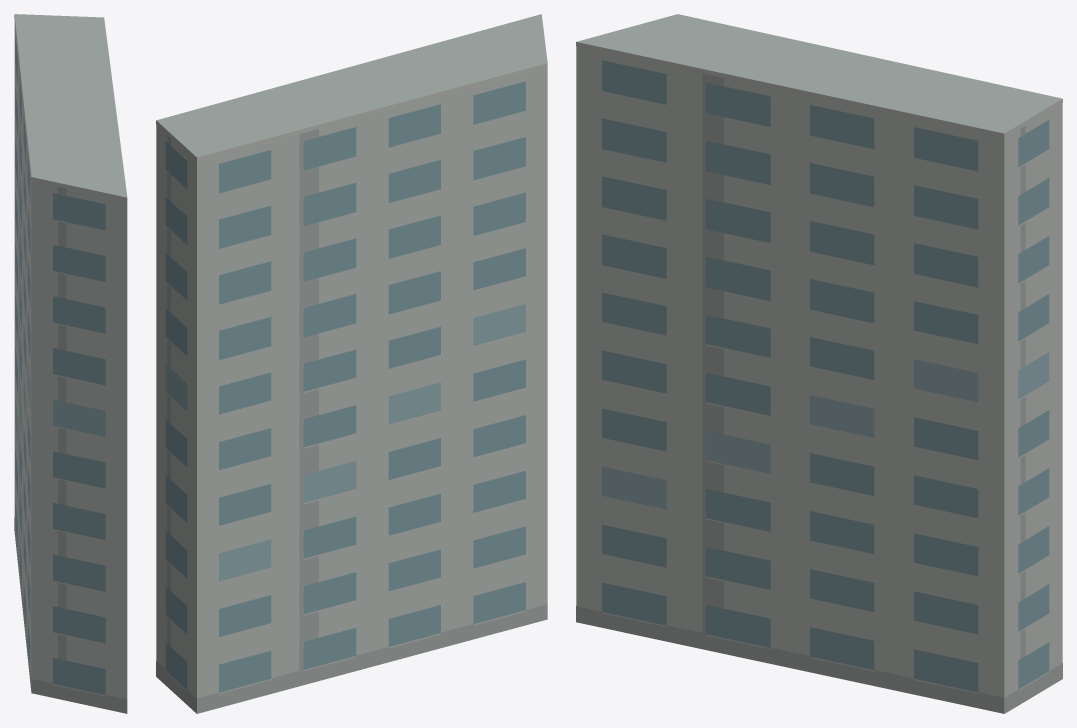
The model's file is survey-upis-33041329.glb.
The picture shows the model from 3 angles, left to right: view 1: azimuth 30°, elevation 25°; view 2: azimuth 150°, elevation 25°; view 3: azimuth 270°, elevation 25°; orthographic projection. The views are drawn at different scales.
Parts seen in each view (by area): view 1: survey-upis-33041329.tmp; view 2: survey-upis-33041329.tmp; view 3: survey-upis-33041329.tmp.
Boxes of the visible parts, x1,y1,x2,y2 form: survey-upis-33041329.tmp: (14, 14, 127, 713); survey-upis-33041329.tmp: (156, 14, 547, 713); survey-upis-33041329.tmp: (576, 14, 1062, 713).
Size of the model in its own units: 14.02 by 31.7 by 24.1.
